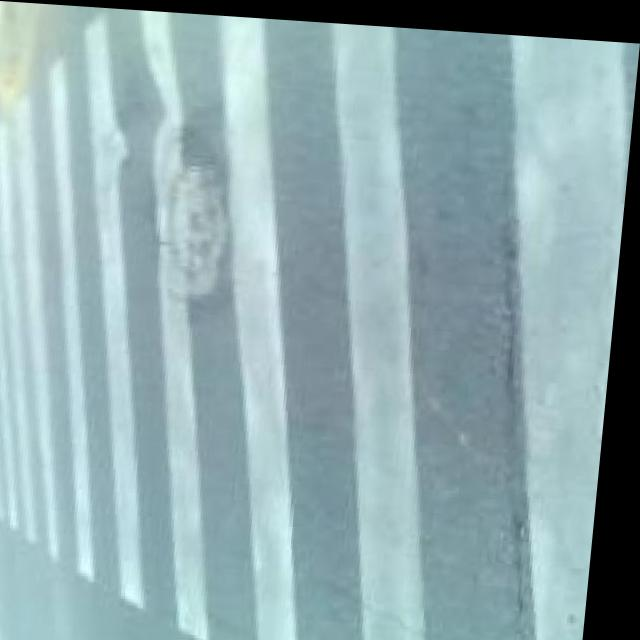zebra: (0, 71, 635, 571)
